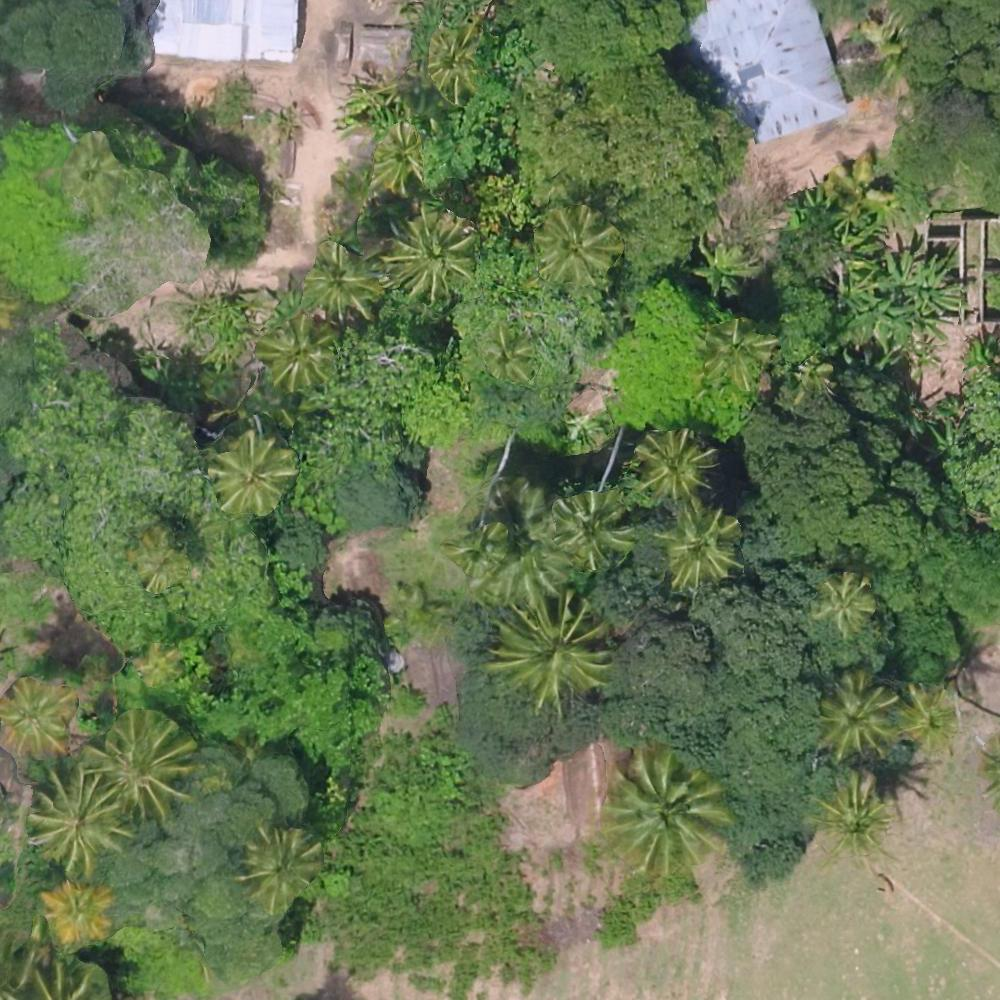Palm: (612, 757, 736, 877), (486, 596, 611, 707), (88, 716, 196, 824), (33, 777, 135, 873), (807, 782, 907, 868), (551, 492, 637, 572), (534, 204, 616, 286), (395, 217, 480, 296), (247, 826, 327, 909), (666, 506, 743, 584), (822, 682, 898, 761), (631, 432, 713, 505), (300, 246, 379, 318), (890, 679, 964, 754), (215, 436, 288, 509), (702, 317, 779, 384), (4, 681, 73, 755), (260, 319, 334, 385), (46, 878, 117, 944), (817, 569, 880, 634), (478, 319, 538, 385), (424, 29, 479, 99), (373, 127, 428, 191)
